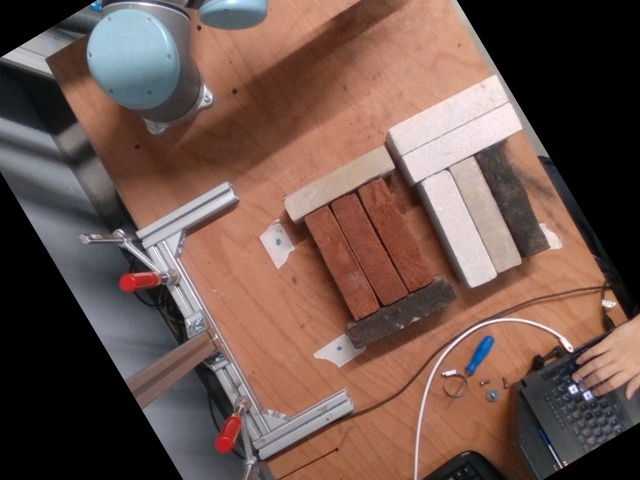brick-side: (388, 73, 507, 154), (403, 102, 522, 182), (420, 169, 499, 288), (448, 154, 522, 272), (474, 142, 548, 260), (305, 206, 380, 318), (360, 179, 434, 291), (284, 145, 393, 219), (332, 195, 405, 305), (347, 277, 456, 347), (584, 479, 639, 479), (593, 479, 630, 479)
